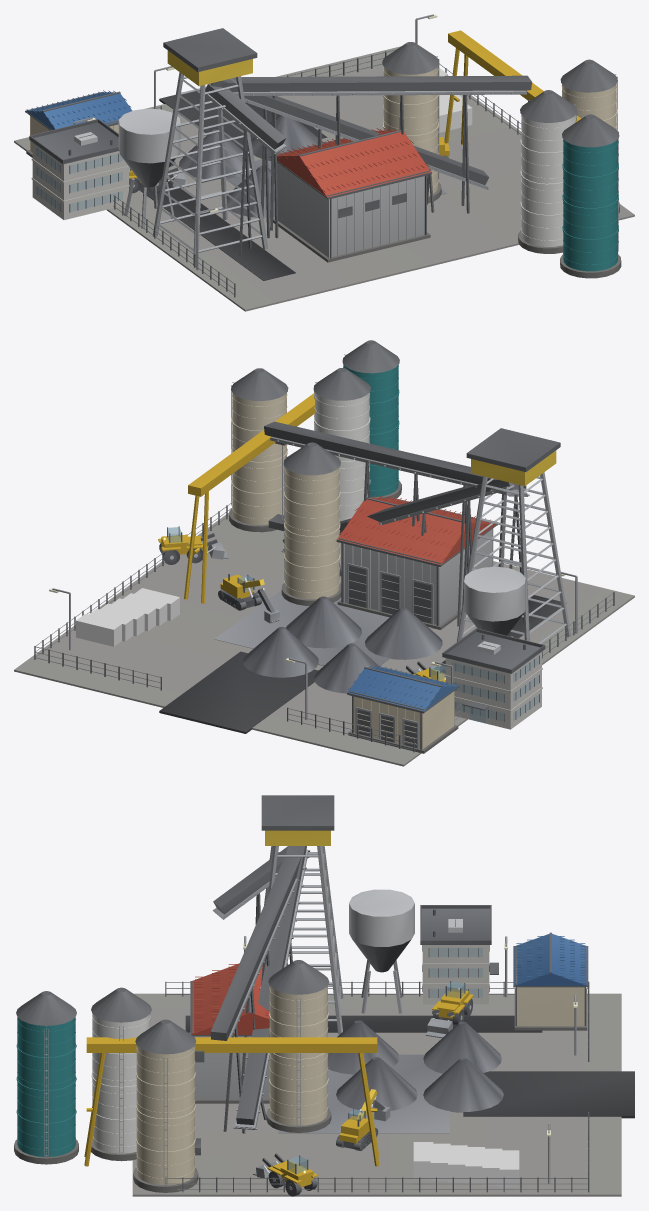
The model's file is Depot_P3.fbx.
The picture shows the model from 3 angles, top to bottom: view 1: azimuth 30°, elevation 25°; view 2: azimuth 150°, elevation 25°; view 3: azimuth 270°, elevation 25°; orthographic projection. The views are drawn at different scales.
Visible parts, largest first — view 1: Depot.Yard, Depot.Shed1, Depot.Tower, Depot.Silo2, Depot.Office, Depot.ConvB, Depot.Silo1, Depot.Silo3, Depot.ConvMain, Depot.Hopper, Depot.Shed2, Depot.Silo0 (+8 smaller); view 2: Depot.Yard, Depot.Shed1, Depot.Tower, Depot.Silo3, Depot.Office, Depot.Shed2, Depot.Silo0, Depot.ConvB, Depot.Silo1, Depot.Silo2, Depot.Containers, Depot.Gantry (+9 smaller); view 3: Depot.Yard, Depot.Silo0, Depot.Silo2, Depot.Silo3, Depot.Tower, Depot.Silo1, Depot.Shed2, Depot.Office, Depot.Shed1, Depot.Gantry, Depot.ConvB, Depot.Hopper (+11 smaller).
Part boxes in pixels (x1,y1,x2,y2): Depot.Yard: (14, 46, 634, 311); Depot.Shed1: (270, 127, 431, 262); Depot.Tower: (152, 28, 267, 265); Depot.Silo2: (560, 114, 621, 278); Depot.Office: (29, 119, 129, 219); Depot.ConvB: (222, 75, 532, 238); Depot.Silo1: (518, 90, 577, 253); Depot.Silo3: (382, 42, 441, 203); Depot.ConvMain: (211, 80, 488, 238); Depot.Hopper: (118, 108, 180, 228); Depot.Shed2: (25, 90, 132, 157); Depot.Silo0: (560, 59, 619, 214); Depot.Yard: (14, 512, 634, 766); Depot.Shed1: (336, 495, 497, 629); Depot.Tower: (457, 428, 571, 643); Depot.Silo3: (281, 442, 341, 605); Depot.Office: (442, 628, 545, 729); Depot.Shed2: (347, 665, 459, 753); Depot.Silo0: (229, 368, 288, 532); Depot.ConvB: (264, 421, 513, 626); Depot.Silo1: (313, 368, 370, 521); Depot.Silo2: (342, 340, 401, 498); Depot.Containers: (76, 588, 179, 646); Depot.Gantry: (184, 392, 314, 603); Depot.Yard: (132, 993, 634, 1196); Depot.Silo0: (133, 1019, 198, 1192); Depot.Silo2: (14, 991, 78, 1164); Depot.Silo3: (266, 960, 331, 1133); Depot.Tower: (261, 795, 343, 1034); Depot.Silo1: (91, 987, 151, 1161); Depot.Shed2: (513, 932, 588, 1030); Depot.Office: (420, 905, 498, 1004); Depot.Shed1: (190, 963, 269, 1103); Depot.Gantry: (84, 1037, 379, 1166); Depot.ConvB: (210, 853, 309, 1133); Depot.Hopper: (349, 889, 414, 1013).
Bounding box in the file's own units: 8232 × 3465 × 9398.
